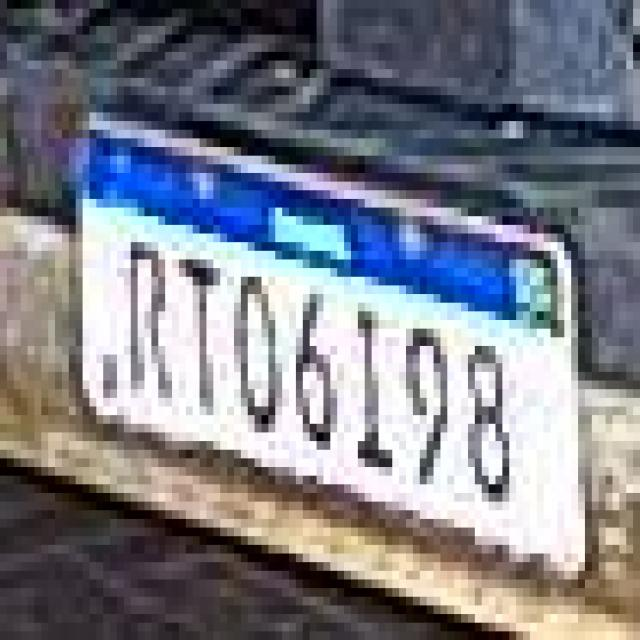6: (292, 289, 338, 455)
8: (458, 330, 515, 507)
9: (402, 318, 453, 490)
I: (347, 297, 400, 474)
O: (224, 265, 286, 436)
R: (124, 237, 177, 401)
T: (178, 246, 228, 417)
